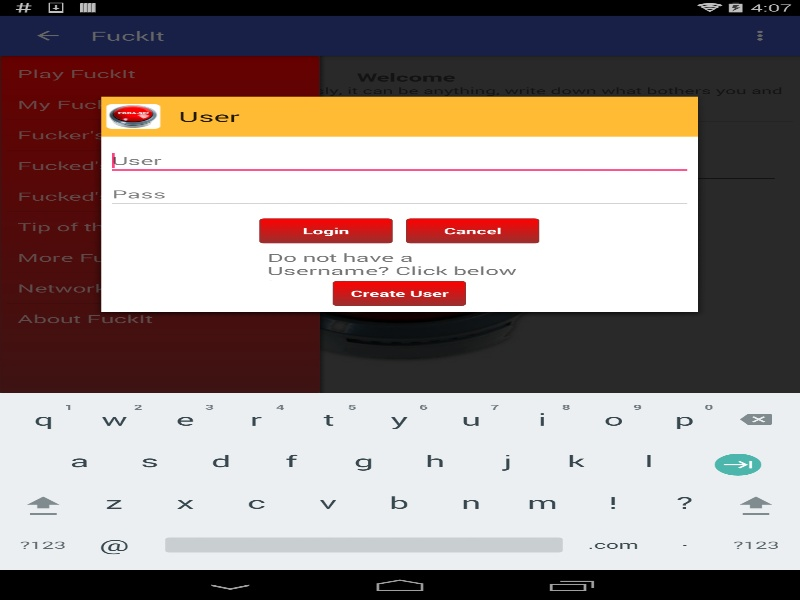Button: (405, 218, 539, 243), (332, 280, 466, 305), (259, 218, 392, 243)
Input: (106, 146, 692, 175), (106, 180, 692, 208)
